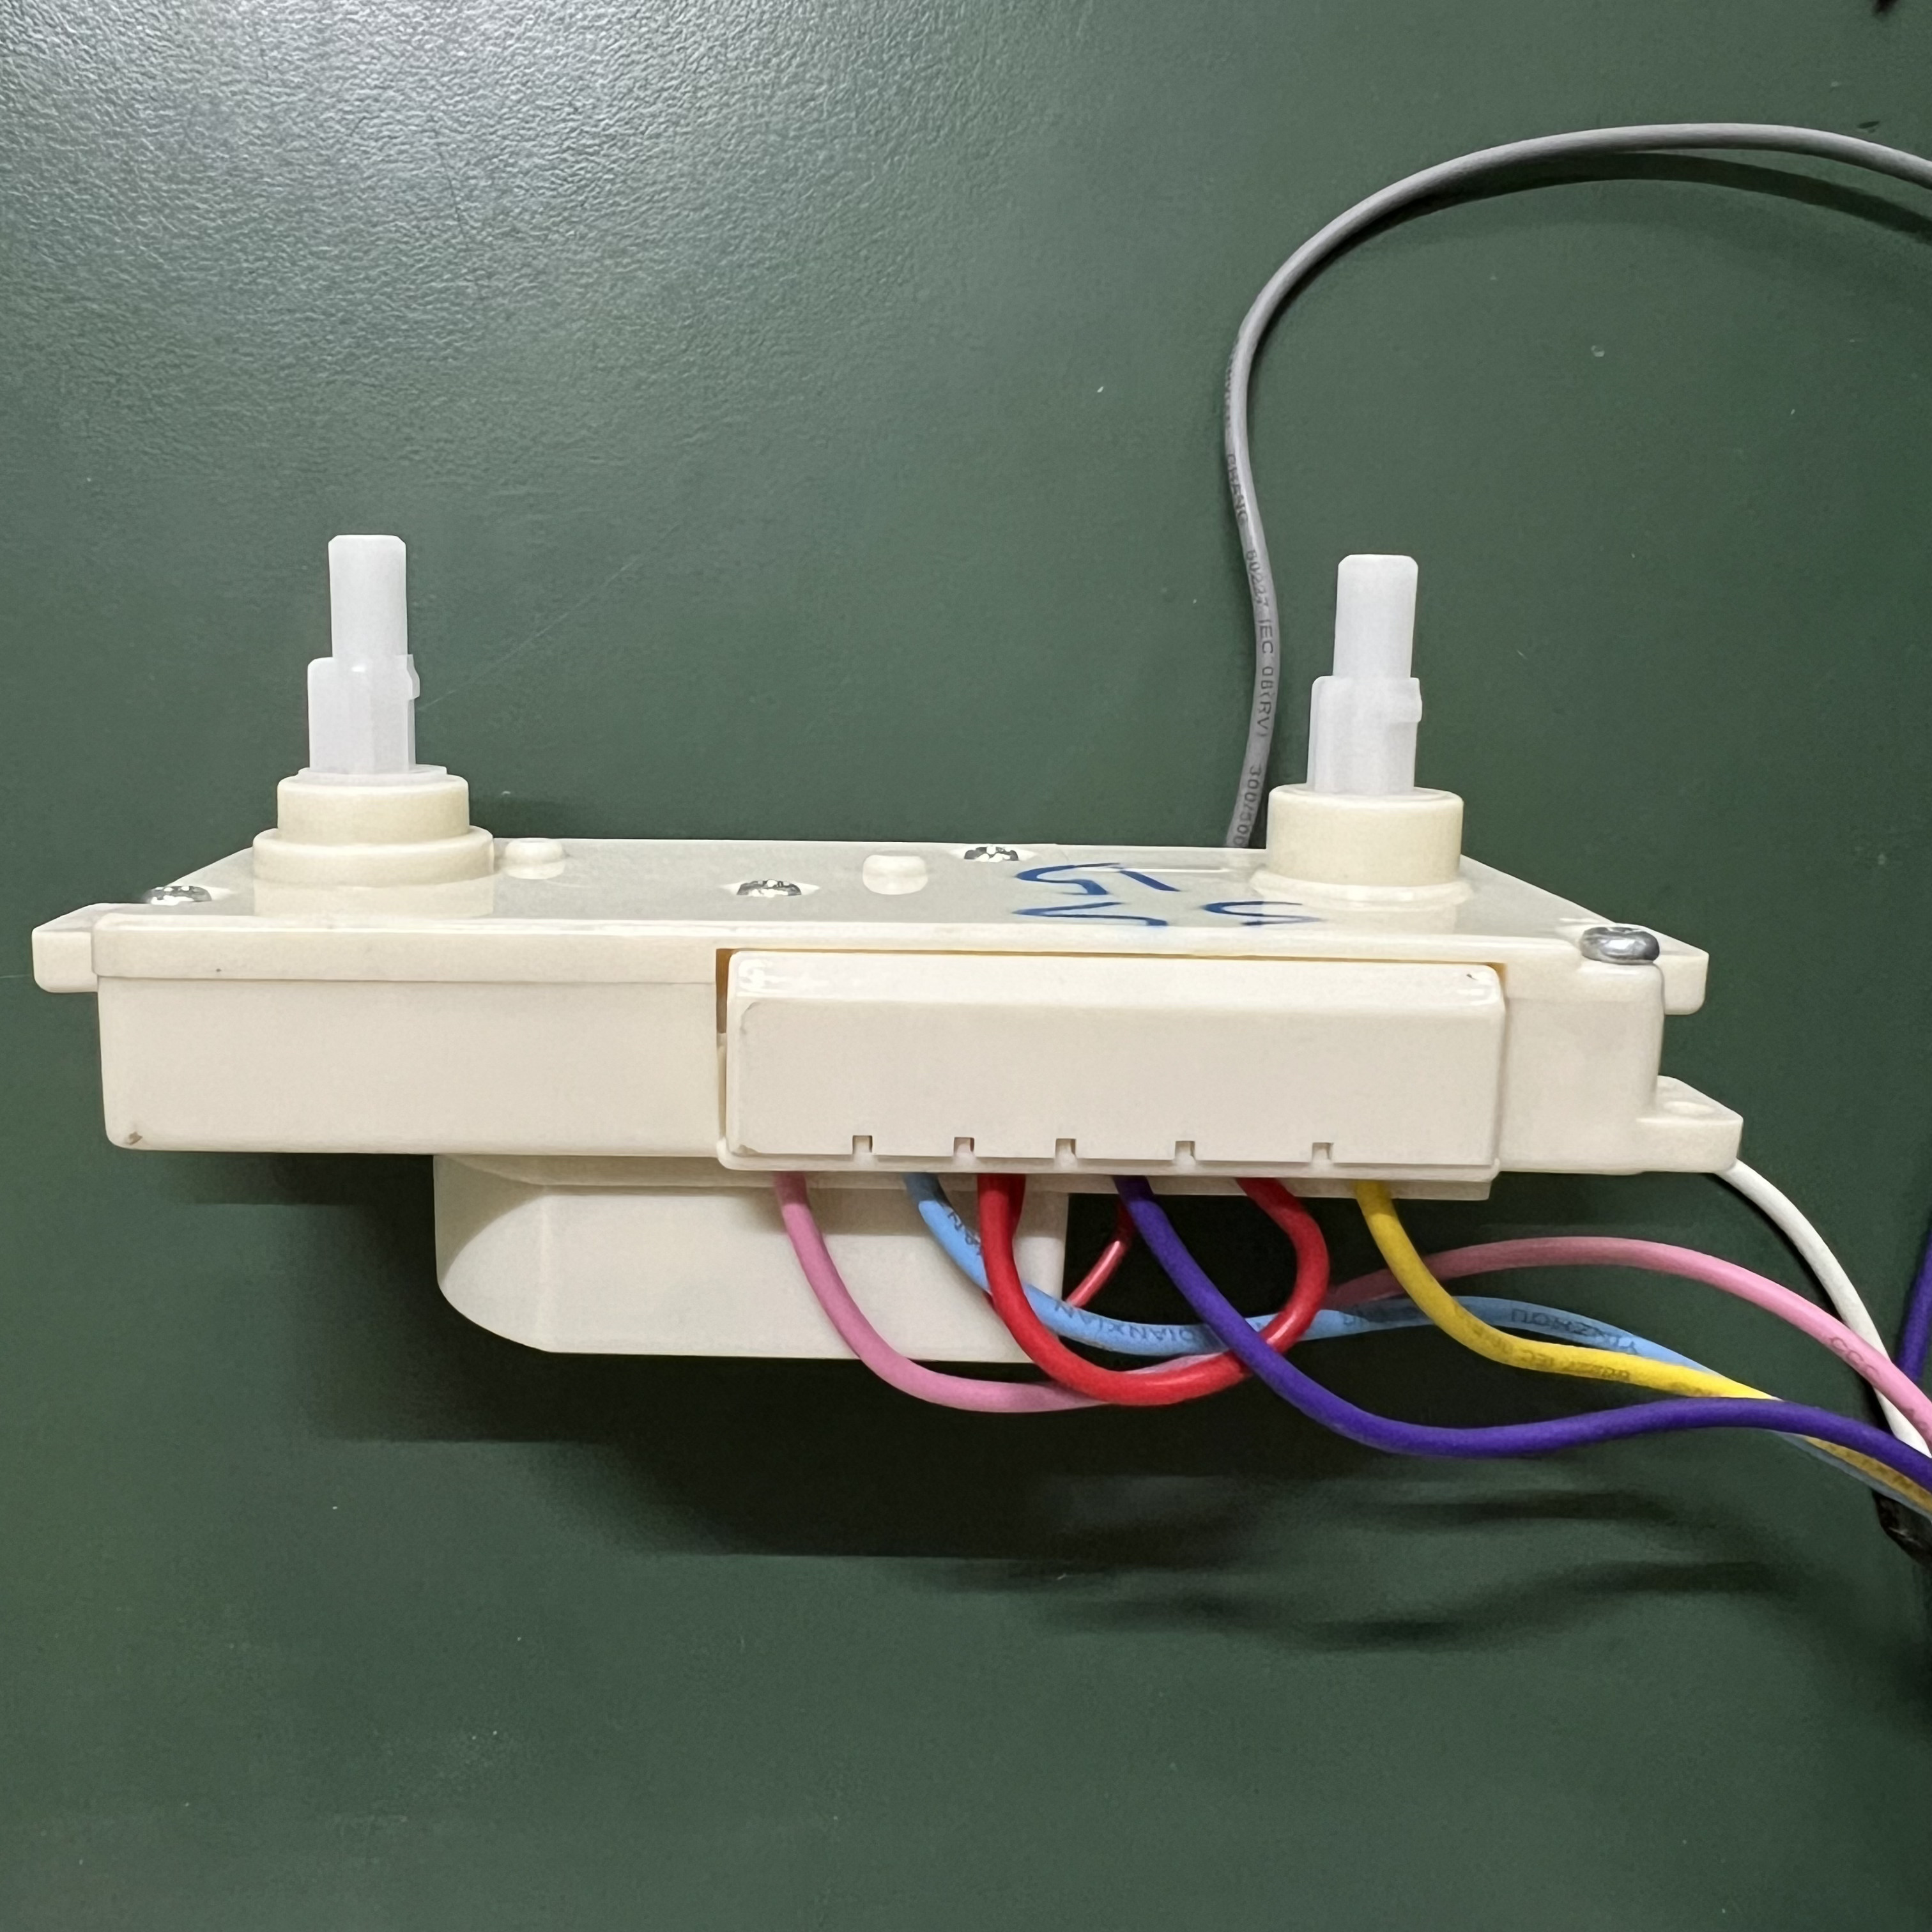rectangle_timer: (37, 481, 1775, 1428)
